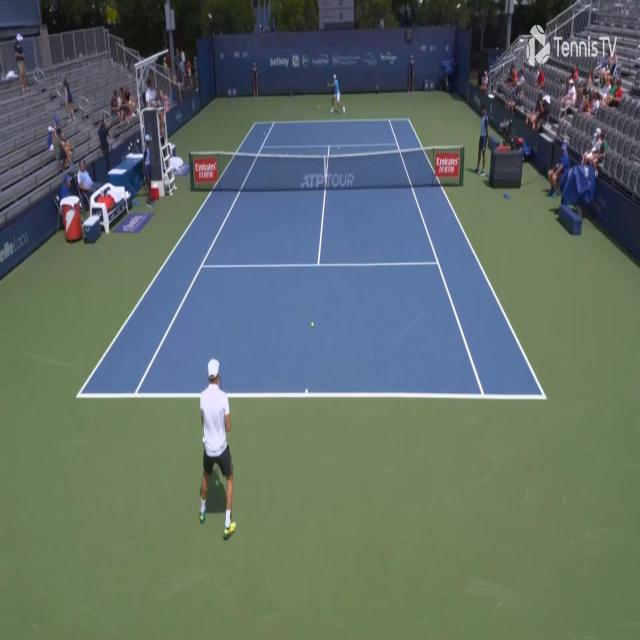tennis-player: (197, 353, 238, 538), (326, 72, 346, 116)
